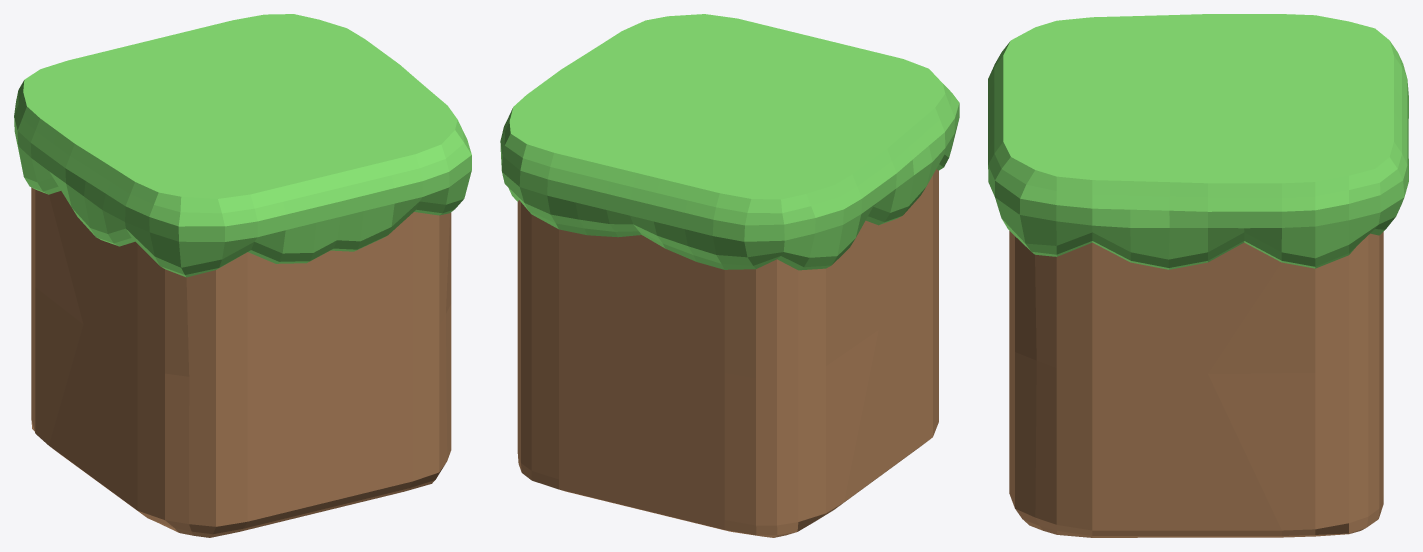
The model's file is V1.Ground.Single.fbx.
The picture shows the model from 3 angles, left to right: view 1: azimuth 30°, elevation 25°; view 2: azimuth 150°, elevation 25°; view 3: azimuth 270°, elevation 25°; orthographic projection. The views are drawn at different scales.
Parts seen in each view (by area): view 1: V1.Corner; view 2: V1.Corner; view 3: V1.Corner.
Boxes of the visible parts, <box> form: V1.Corner: <box>14,14,471,537</box>; V1.Corner: <box>500,14,959,537</box>; V1.Corner: <box>988,14,1408,537</box>.
Bounding box in the file's own units: 209 × 200 × 207.
